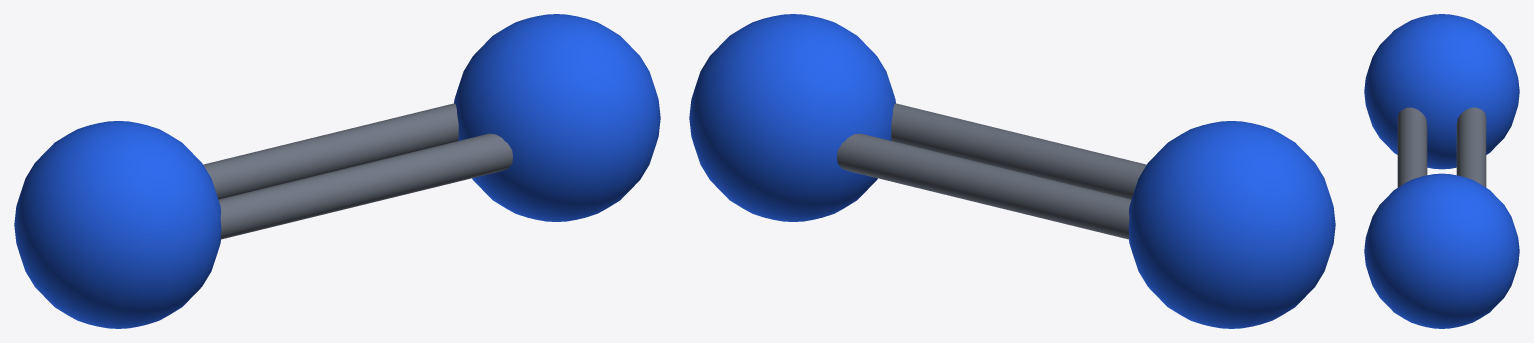
3 views of the same model, side by side, from view 1: azimuth 30°, elevation 25°; view 2: azimuth 150°, elevation 25°; view 3: azimuth 270°, elevation 25° (orthographic). The views are drawn at different scales.
Visible parts, largest first — view 1: O1, O2, object 3, object 4; view 2: O1, O2, object 4, object 3; view 3: O2, O1, object 3, object 4.
Part boxes in pixels (bbox=[...]): O1: bbox=[14, 121, 221, 328]; O2: bbox=[454, 14, 660, 221]; object 3: bbox=[218, 133, 512, 239]; object 4: bbox=[203, 103, 458, 199]; O1: bbox=[1128, 121, 1335, 328]; O2: bbox=[689, 14, 895, 221]; object 4: bbox=[837, 133, 1131, 239]; object 3: bbox=[891, 103, 1146, 199]; O2: bbox=[1364, 173, 1519, 328]; O1: bbox=[1364, 14, 1519, 169]; object 3: bbox=[1397, 107, 1427, 187]; object 4: bbox=[1456, 107, 1486, 187].
Bounding box in the file's own units: 0.288 × 0.084 × 0.084.
